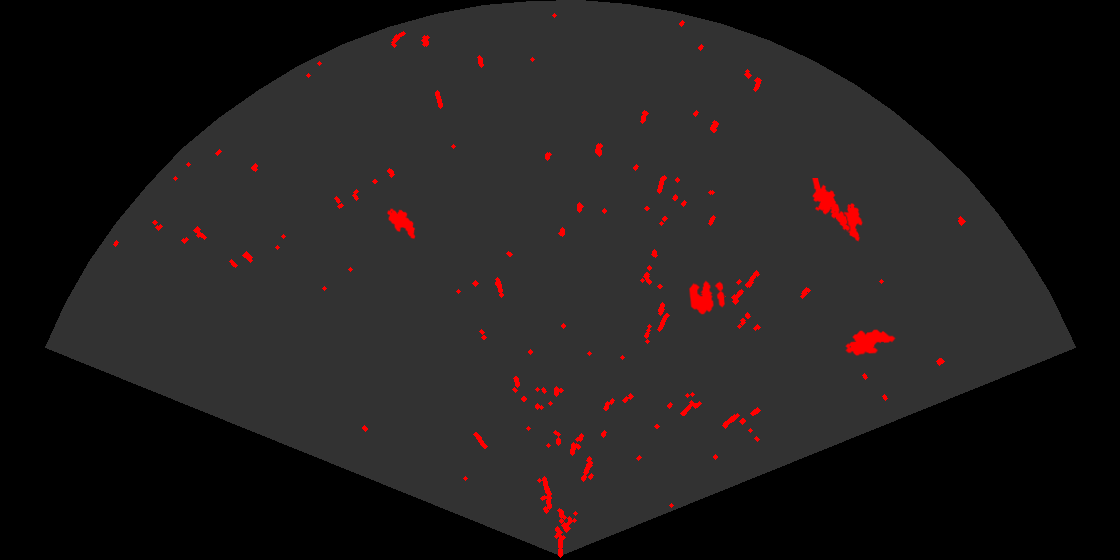AUV: (844, 328, 897, 357), (385, 207, 417, 240), (840, 201, 864, 243)
ball: (687, 279, 727, 316)
frogman: (810, 178, 851, 233)
